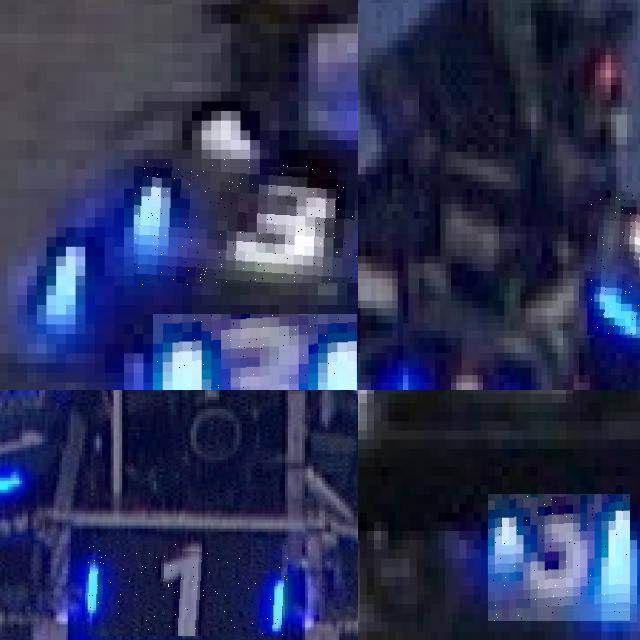B1: (85, 544, 288, 636)
B3: (133, 159, 358, 285), (488, 494, 630, 622), (153, 314, 356, 390)
B4: (587, 185, 640, 334), (358, 353, 525, 390)
